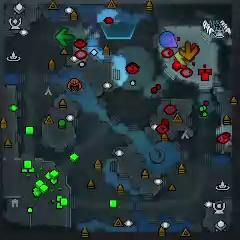p1: (160, 31, 177, 49)
x2: (175, 49, 188, 66)
x4: (55, 27, 76, 46)
x5: (179, 41, 200, 60)
